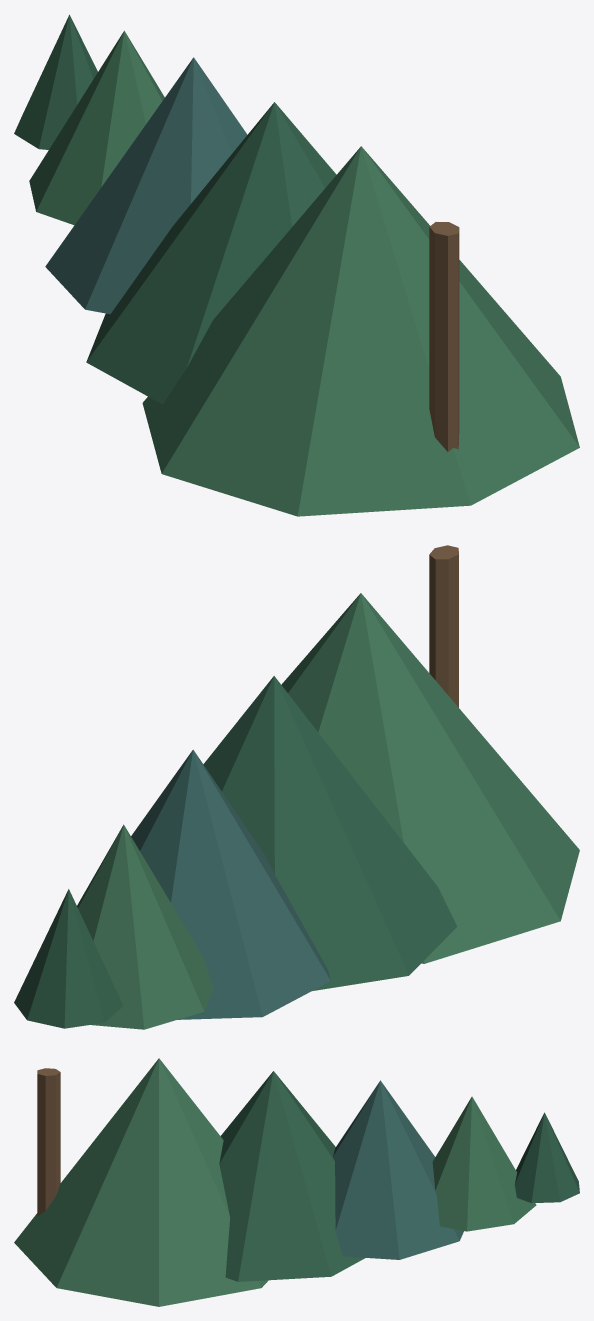
File: hl-tree-alpha-short-pine.glb
3 renders of one model, top to bottom at view 1: azimuth 30°, elevation 25°; view 2: azimuth 150°, elevation 25°; view 3: azimuth 270°, elevation 25°, orthographic. The views are drawn at different scales.
Parts seen in each view (by area): view 1: short_pine_foliage_0, short_pine_foliage_1, short_pine_foliage_2, short_pine_foliage_3, short_pine_trunk, short_pine_foliage_4; view 2: short_pine_foliage_0, short_pine_foliage_1, short_pine_foliage_2, short_pine_foliage_3, short_pine_foliage_4, short_pine_trunk; view 3: short_pine_foliage_0, short_pine_foliage_1, short_pine_foliage_2, short_pine_foliage_3, short_pine_foliage_4, short_pine_trunk.
Part boxes in pixels (x1=…): short_pine_foliage_0: x1=142, y1=146, x2=579, y2=516; short_pine_foliage_1: x1=86, y1=102, x2=336, y2=404; short_pine_foliage_2: x1=45, y1=57, x2=247, y2=314; short_pine_foliage_3: x1=29, y1=30, x2=164, y2=225; short_pine_trunk: x1=429, y1=222, x2=459, y2=451; short_pine_foliage_4: x1=14, y1=14, x2=97, y2=149; short_pine_foliage_0: x1=281, y1=593, x2=579, y2=963; short_pine_foliage_1: x1=203, y1=676, x2=457, y2=990; short_pine_foliage_2: x1=131, y1=749, x2=330, y2=1019; short_pine_foliage_3: x1=77, y1=824, x2=213, y2=1029; short_pine_foliage_4: x1=14, y1=889, x2=123, y2=1028; short_pine_trunk: x1=429, y1=545, x2=458, y2=707; short_pine_foliage_0: x1=14, y1=1058, x2=268, y2=1306; short_pine_foliage_1: x1=219, y1=1071, x2=364, y2=1281; short_pine_foliage_2: x1=333, y1=1080, x2=463, y2=1259; short_pine_foliage_3: x1=432, y1=1096, x2=536, y2=1231; short_pine_foliage_4: x1=514, y1=1112, x2=579, y2=1203; short_pine_trunk: x1=37, y1=1068, x2=60, y2=1216.
Size of the model in its own units: 7.98 by 5.34 by 14.83.
